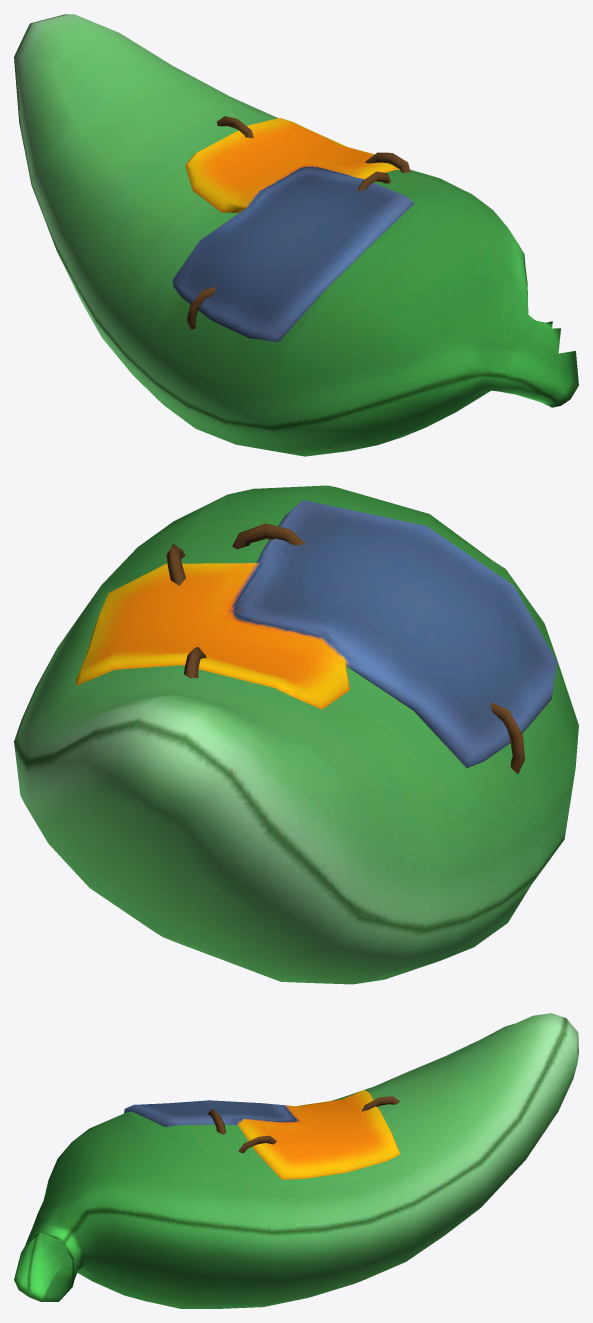
The model's file is stuffyflower_ala_der.obj.
The picture shows the model from 3 angles, top to bottom: view 1: azimuth 30°, elevation 25°; view 2: azimuth 150°, elevation 25°; view 3: azimuth 270°, elevation 25°; orthographic projection. The views are drawn at different scales.
Visible parts, largest first — view 1: stuffyflower_ala_der; view 2: stuffyflower_ala_der; view 3: stuffyflower_ala_der.
Part boxes in pixels (box(x1,y1,x2,y2)): stuffyflower_ala_der: box(14, 14, 578, 456); stuffyflower_ala_der: box(14, 485, 578, 984); stuffyflower_ala_der: box(14, 1013, 578, 1308).
Bounding box in the file's own units: 0.2472 × 0.2222 × 0.4545.
